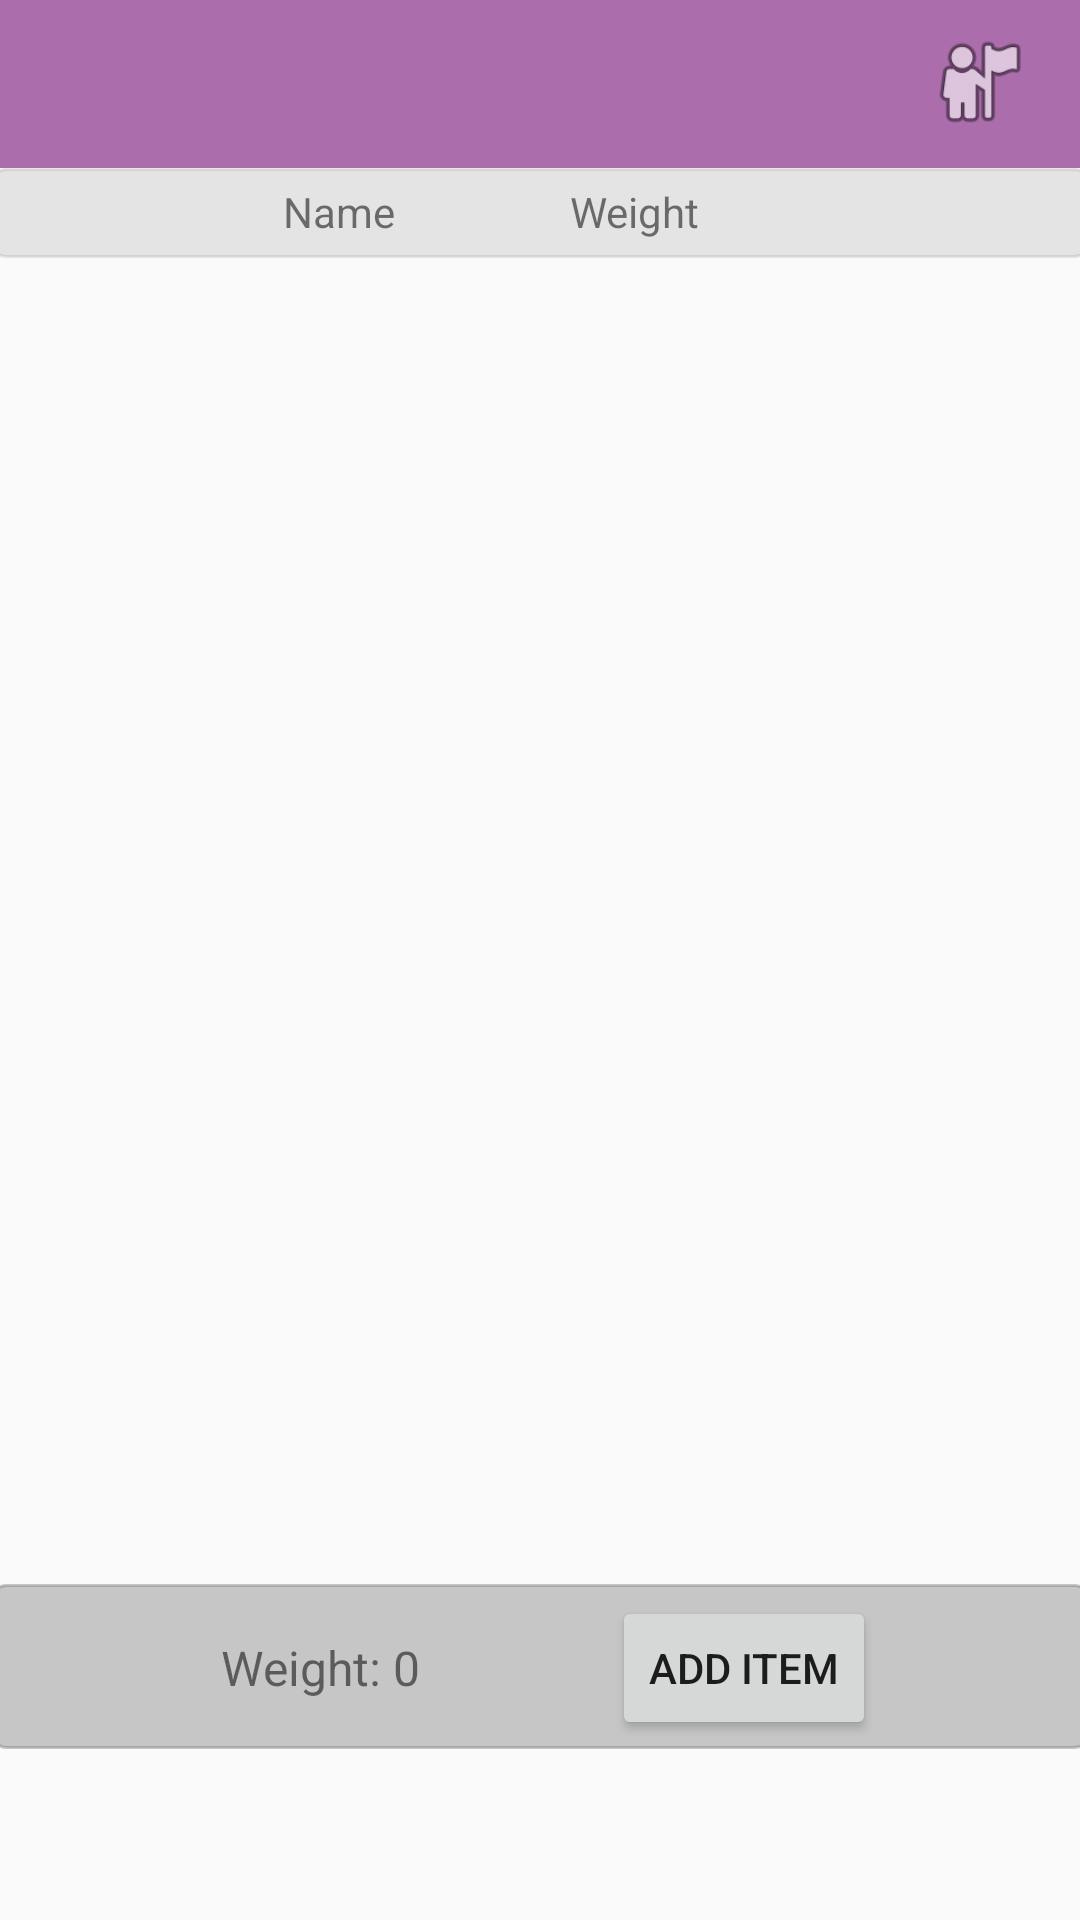

Locate icon controls on the screen. Image size 1080x1920, boxes as [x1=x1, y1=y1, x2=x2, y2=y2].
myplaces: [x1=940, y1=42, x2=1021, y2=122]
